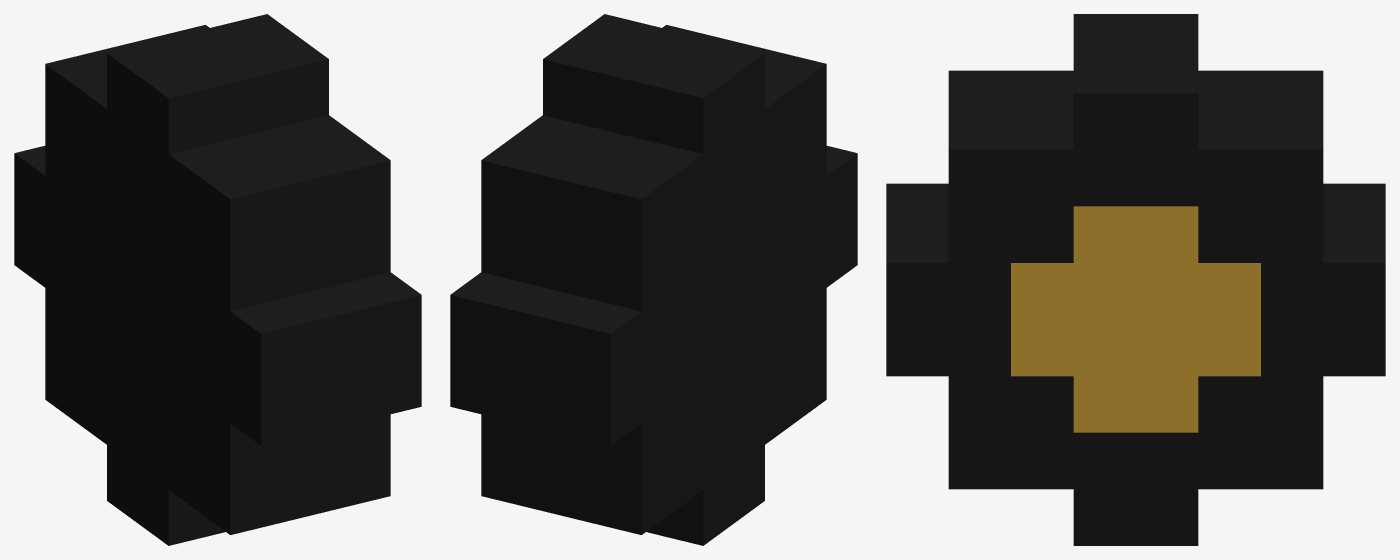
The model's file is wheel_mayfly.obj.
3 views of the same model, side by side, from view 1: azimuth 30°, elevation 25°; view 2: azimuth 150°, elevation 25°; view 3: azimuth 270°, elevation 25° (orthographic).
Size of the model in its own units: 0.3 by 0.8 by 0.8.
1 material, 1 textured.
